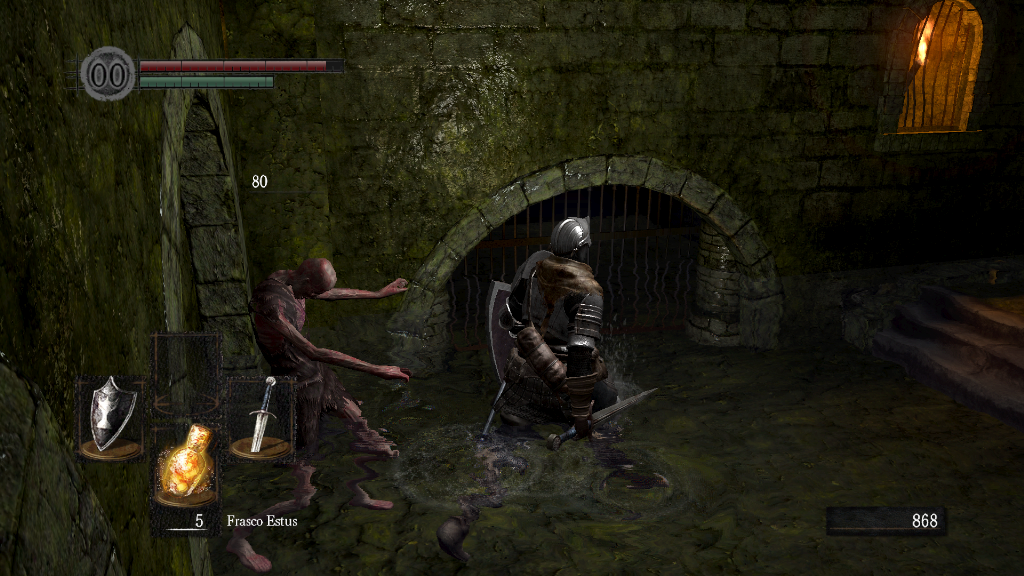health: (138, 58, 343, 71)
hollow: (222, 253, 419, 573)
humanity: (80, 45, 136, 102)
player: (436, 216, 674, 562)
souls: (825, 506, 945, 536)
stamina: (138, 74, 274, 88)
